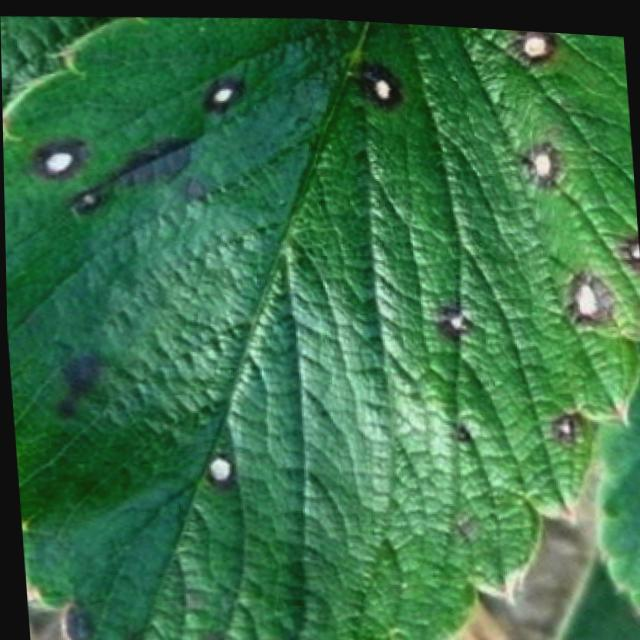Leaf Spot: (2, 15, 640, 640), (552, 538, 640, 640)
